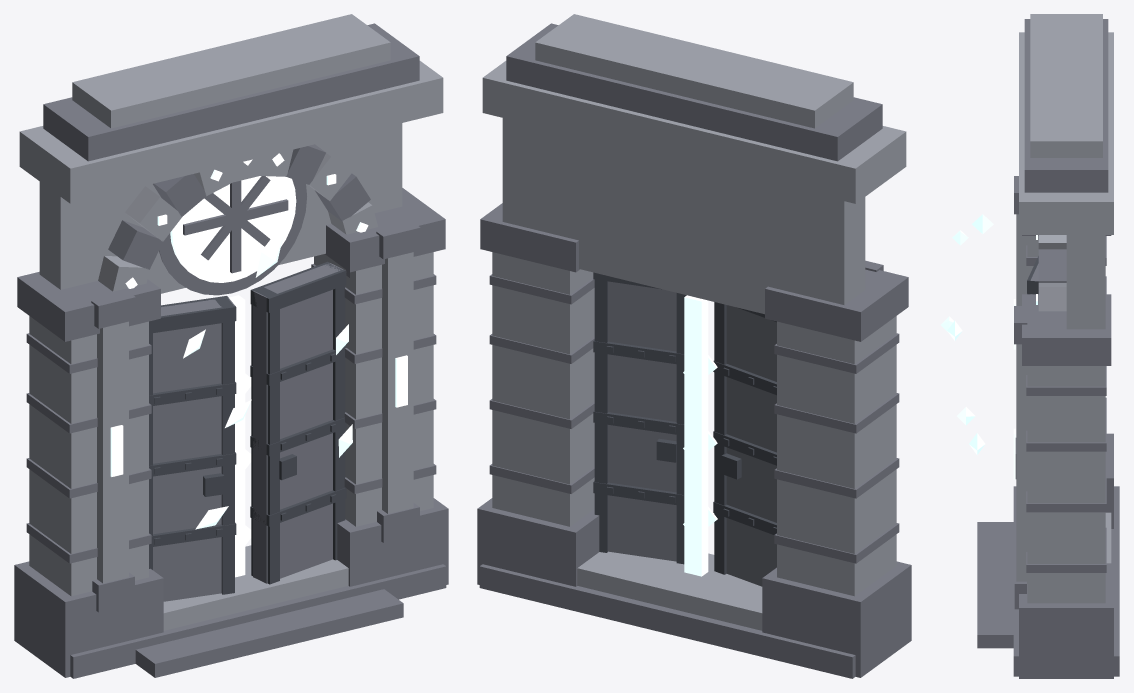
The model's file is colosseum_door.glb.
3 renders of one model, left to right at view 1: azimuth 30°, elevation 25°; view 2: azimuth 150°, elevation 25°; view 3: azimuth 270°, elevation 25°, orthographic. The views are drawn at different scales.
Visible parts, largest first — view 1: JambShaft_L, Cornice_0, Leaf_R, Cornice_2, Leaf_L, Tympanum, JambShaft_R, Cornice_1, JambFoot_L, Threshold, Pilaster_R, Pilaster_L (+44 smaller); view 2: Tympanum, JambShaft_L, JambShaft_R, Cornice_0, Cornice_2, Leaf_R, Cornice_1, Leaf_L, JambFoot_L, Base_0, Base_1, JambFoot_R (+20 smaller); view 3: JambShaft_R, Cornice_2, JambFoot_R, Cornice_0, Cornice_1, Threshold, Impost_R, Tympanum, Pilaster_R, Base_0, Voussoir_2, JambCourse_R_33 (+11 smaller).
Part boxes in pixels (left/top/right/bottom): JambShaft_L: left=29, top=316, right=148, bottom=596; Cornice_0: left=19, top=61, right=443, bottom=203; Leaf_R: left=253, top=263, right=343, bottom=583; Cornice_2: left=72, top=14, right=390, bottom=128; Leaf_L: left=153, top=298, right=234, bottom=601; Tympanum: left=39, top=123, right=402, bottom=293; JambShaft_R: left=314, top=252, right=433, bottom=526; Cornice_1: left=43, top=23, right=419, bottom=161; JambFoot_L: left=14, top=561, right=163, bottom=677; Threshold: left=135, top=589, right=403, bottom=677; Pilaster_R: left=382, top=252, right=413, bottom=513; Pilaster_L: left=97, top=321, right=128, bottom=583; Tympanum: left=502, top=118, right=865, bottom=314; JambShaft_L: left=777, top=316, right=896, bottom=596; JambShaft_R: left=492, top=252, right=594, bottom=526; Cornice_0: left=482, top=61, right=906, bottom=203; Cornice_2: left=535, top=14, right=853, bottom=128; Leaf_R: left=608, top=281, right=676, bottom=561; Cornice_1: left=506, top=23, right=882, bottom=161; Leaf_L: left=726, top=305, right=776, bottom=586; JambFoot_L: left=762, top=561, right=911, bottom=677; Base_0: left=479, top=564, right=855, bottom=678; Base_1: left=577, top=551, right=762, bottom=630; JambFoot_R: left=477, top=498, right=599, bottom=586; JambShaft_R: left=1027, top=366, right=1105, bottom=603; Cornice_2: left=1030, top=14, right=1102, bottom=157; JambFoot_R: left=1019, top=563, right=1113, bottom=678; Cornice_0: left=1019, top=32, right=1113, bottom=234; Cornice_1: left=1024, top=19, right=1108, bottom=192; Threshold: left=977, top=522, right=1013, bottom=648; Impost_R: left=1022, top=294, right=1111, bottom=365; Tympanum: left=1066, top=235, right=1105, bottom=329; Pilaster_R: left=1016, top=344, right=1027, bottom=583; Base_0: left=1013, top=486, right=1119, bottom=676; Voussoir_2: left=1038, top=249, right=1066, bottom=282; JambCourse_R_33: left=1026, top=467, right=1106, bottom=512.
Size of the model in its own units: 7.4 by 10.15 by 3.21.
